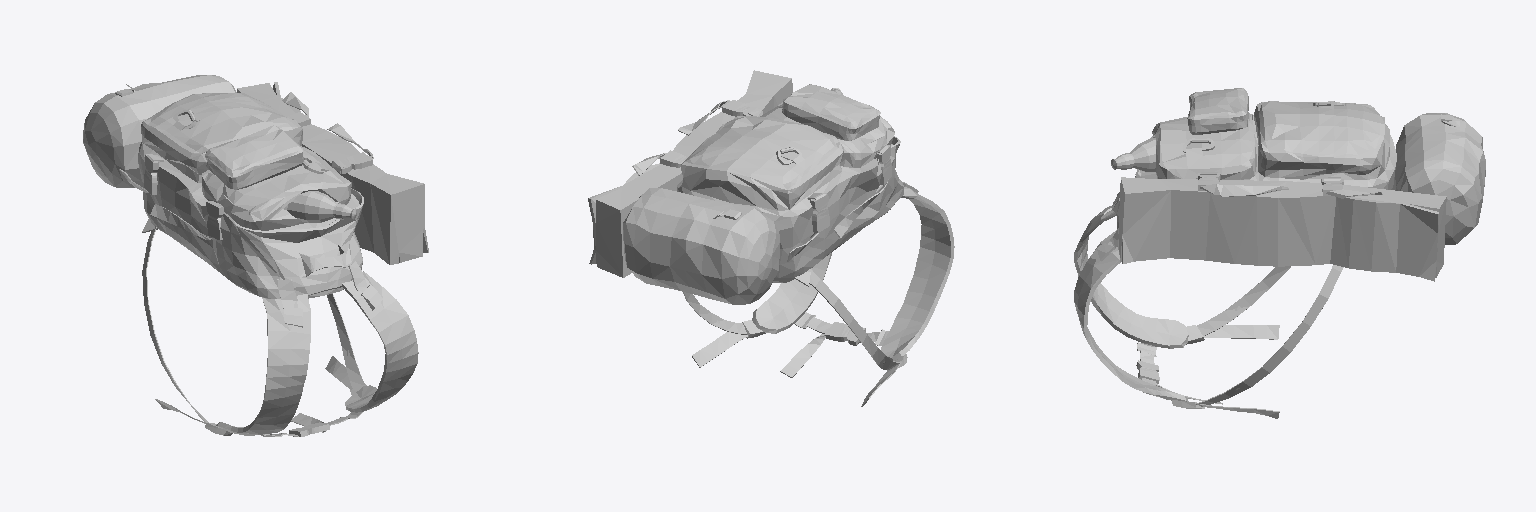
The model's file is ScavBP.obj.
The picture shows the model from 3 angles: view 1: azimuth 30°, elevation 25°; view 2: azimuth 150°, elevation 25°; view 3: azimuth 270°, elevation 25°; orthographic projection.
Visible parts, largest first — view 1: 1.BP_Load_Baselard_Body_lod0.smd.mesh_0; view 2: 1.BP_Load_Baselard_Body_lod0.smd.mesh_0; view 3: 1.BP_Load_Baselard_Body_lod0.smd.mesh_0.
Boxes of the visible parts, <box> form: 1.BP_Load_Baselard_Body_lod0.smd.mesh_0: <box>83,75,428,436</box>; 1.BP_Load_Baselard_Body_lod0.smd.mesh_0: <box>588,70,954,406</box>; 1.BP_Load_Baselard_Body_lod0.smd.mesh_0: <box>1074,88,1485,418</box>.
Bounding box in the file's own units: 14.84 × 20.28 × 26.1.